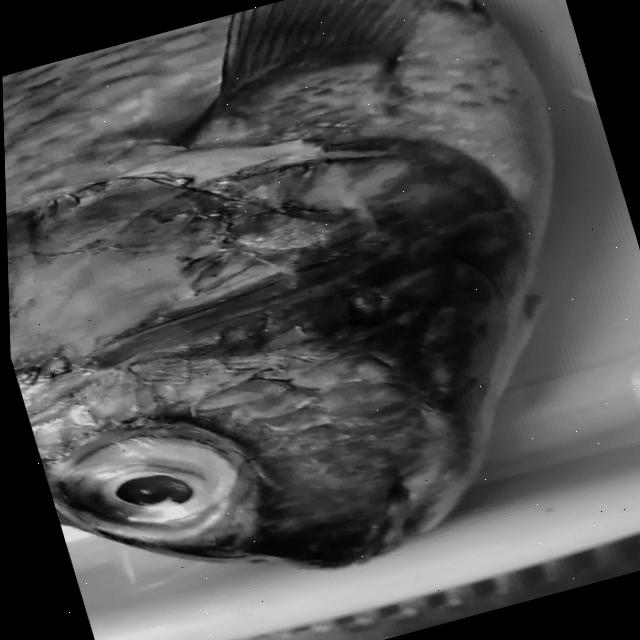Fresh: (35, 404, 271, 572)
